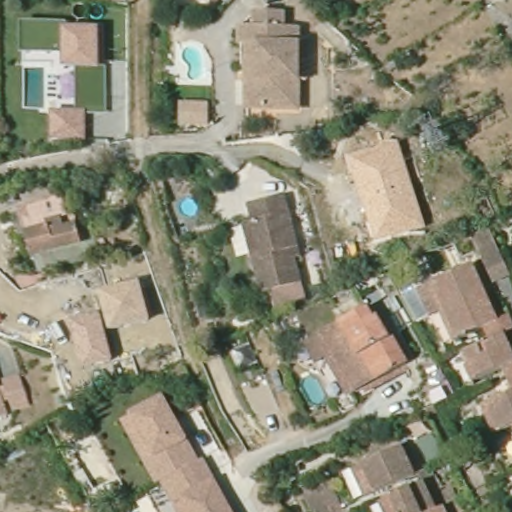pool: (21, 59, 49, 115), (297, 370, 330, 406), (179, 44, 207, 85), (176, 194, 203, 220)
